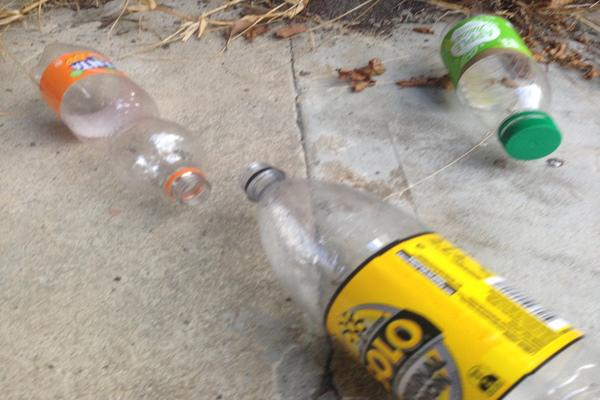Plastic Bottle: (241, 159, 600, 400), (29, 42, 211, 209), (440, 14, 562, 159)
